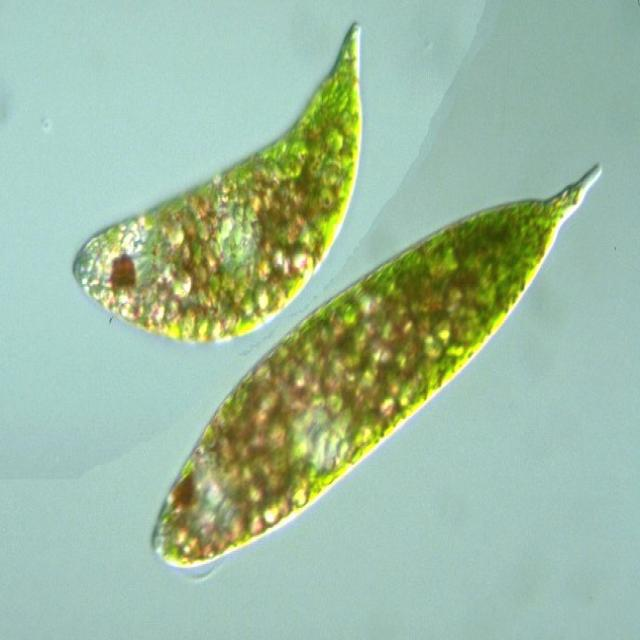Euglena: (152, 162, 604, 574)
Rod_bacteria: (73, 23, 363, 347)
